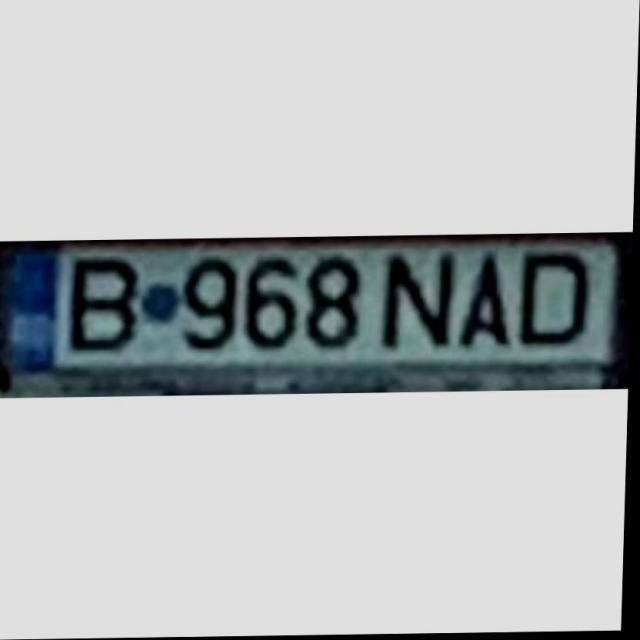license-plates: (0, 235, 626, 396)
